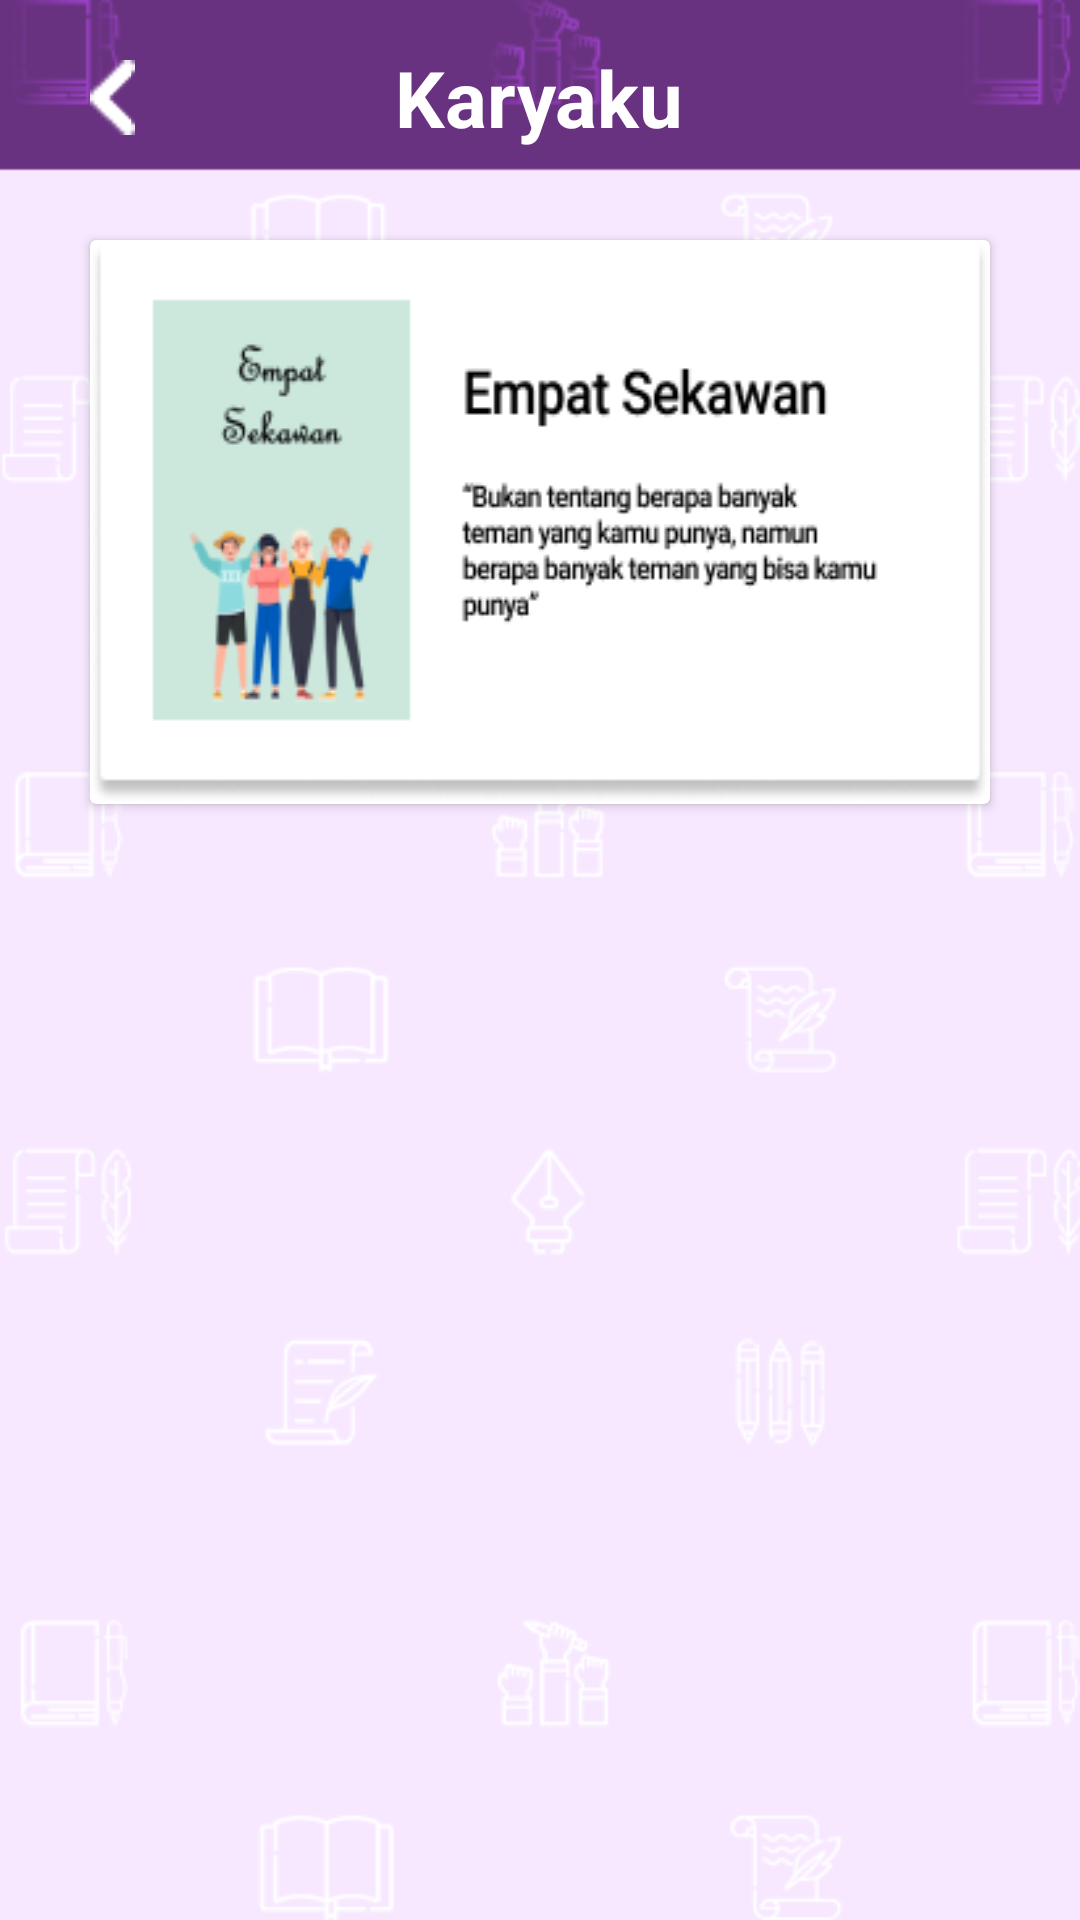

Locate icon controls on the screen. Image size 1080*1920, boxes as bbox=[x1, y1, x2, y2].
btnback: bbox=[90, 60, 135, 135]
